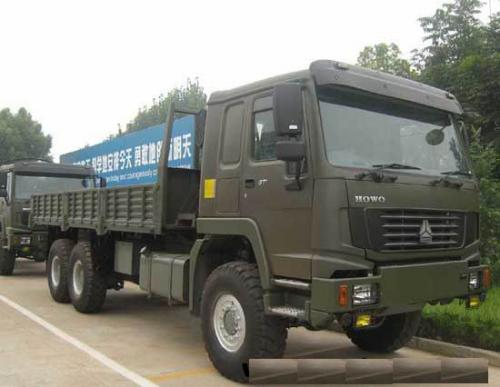truck: (37, 102, 469, 332)
